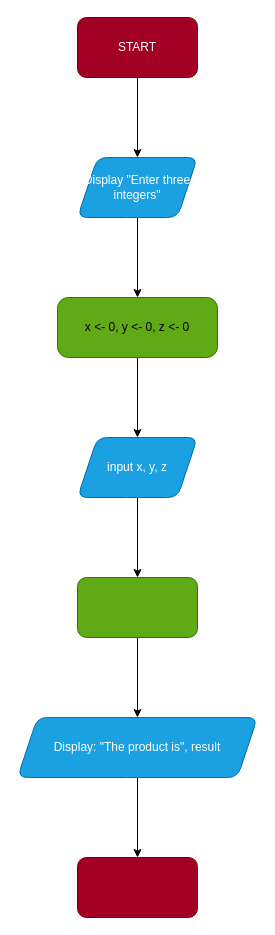
This 275x935 diagram has some shape labels left out. The box of each missing label's shape, as (x1, y1, x2, y2) in pixels:
END: (76, 856, 198, 918)
Result: <- x * y * z: (76, 576, 198, 638)
